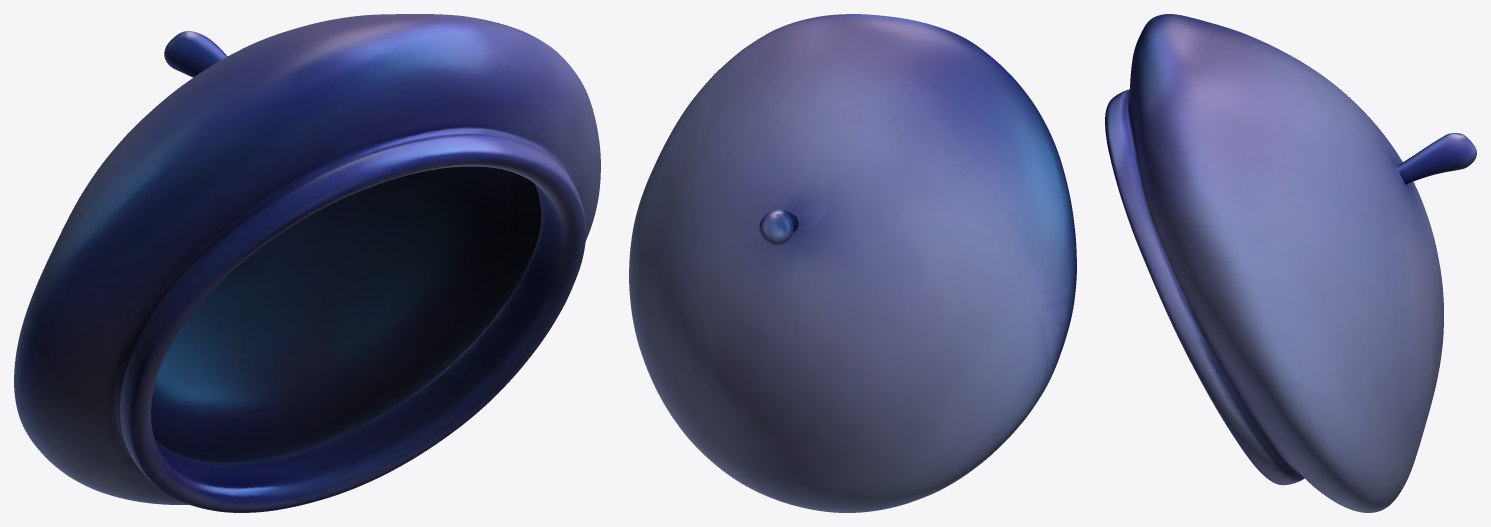
File: beret.glb
The picture shows the model from 3 angles, left to right: view 1: azimuth 30°, elevation 25°; view 2: azimuth 150°, elevation 25°; view 3: azimuth 270°, elevation 25°; orthographic projection. The views are drawn at different scales.
Parts seen in each view (by area): view 1: tripo_node_94923f4d-7998-43e6-ac9e-24671922297c; view 2: tripo_node_94923f4d-7998-43e6-ac9e-24671922297c; view 3: tripo_node_94923f4d-7998-43e6-ac9e-24671922297c.
Part boxes in pixels (left/top/right/bottom): tripo_node_94923f4d-7998-43e6-ac9e-24671922297c: left=14, top=14, right=600, bottom=512; tripo_node_94923f4d-7998-43e6-ac9e-24671922297c: left=629, top=14, right=1076, bottom=512; tripo_node_94923f4d-7998-43e6-ac9e-24671922297c: left=1105, top=14, right=1476, bottom=512.
Size of the model in its own units: 1.08 by 1 by 0.7567.
Materials: 1 (1 with a texture image).
